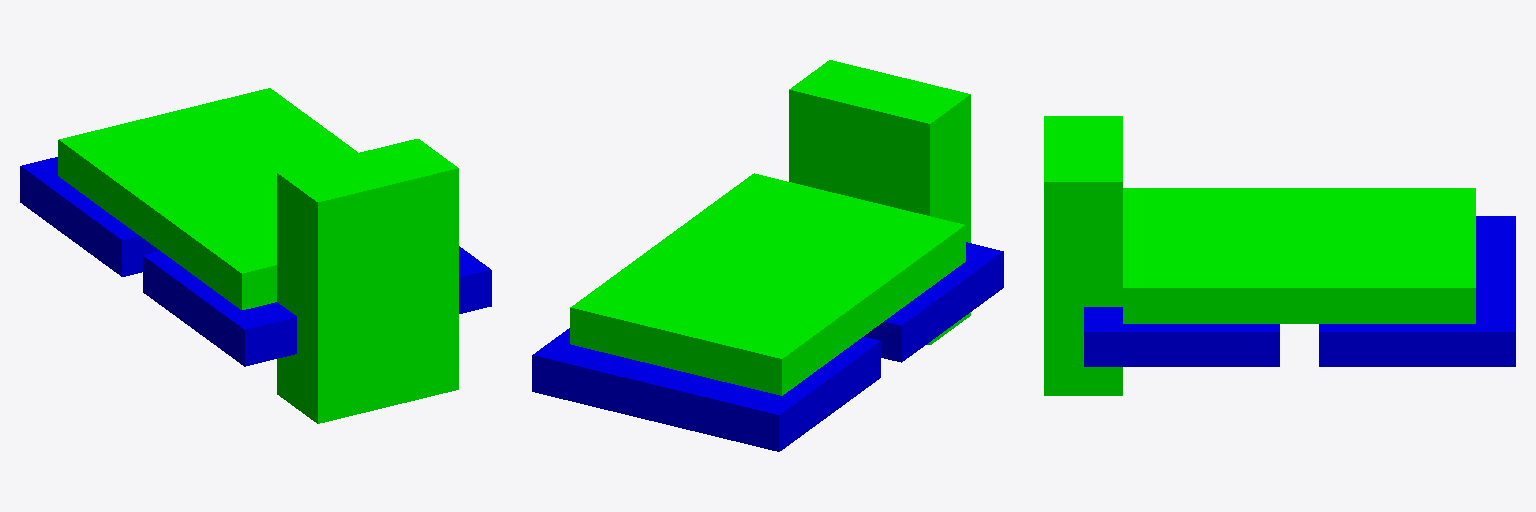
robot.urdf — robot:
<robot name = "robot">
    <link name="root">
        <inertial>
            <origin xyz="0.0 0.0 1.5" rpy="0 0 0"/>
            <mass value="1" />
            <inertia ixx="100" ixy="0" ixz="0" iyy="100" iyz="0" izz="100" />
        </inertial>
        <visual>
            <origin xyz="0.0 0.0 1.5" rpy="0 0 0"/>
            <geometry>
                <box size="0 0 0.0001" />
            </geometry>
            <material name="Green">
                <color rgba="0 1.0 0.0 1.0"/>
            </material>
        </visual>
        <collision>
            <origin xyz="0.0 0.0 1.5" rpy="0 0 0"/>
            <geometry>
                <box size="0 0 0.0001" />
            </geometry>
        </collision>
    </link>
    <joint name="root_000" type="revolute">
       <parent link="root"/>
       <child  link="000"/>
       <origin rpy="0 0 0" xyz="0.0 0.0 1.5" />
     <axis xyz="1 0 0"/>
       <limit effort="0.0" lower="-3.14159" upper="3.14159" velocity="0.0"/>
    </joint>
    <link name="000">
        <inertial>
            <origin xyz="0.0 0.0 -0.3" rpy="0 0 0"/>
            <mass value="1" />
            <inertia ixx="100" ixy="0" ixz="0" iyy="100" iyz="0" izz="100" />
        </inertial>
        <visual>
            <origin xyz="0.0 0.0 -0.3" rpy="0 0 0"/>
            <geometry>
                <box size="0.4 0.2 0.6" />
            </geometry>
            <material name="Green">
                <color rgba="0 1.0 0.0 1.0"/>
            </material>
        </visual>
        <collision>
            <origin xyz="0.0 0.0 -0.3" rpy="0 0 0"/>
            <geometry>
                <box size="0.4 0.2 0.6" />
            </geometry>
        </collision>
    </link>
    <joint name="000_000-100" type="revolute">
       <parent link="000"/>
       <child  link="000-100"/>
       <origin rpy="0 0 0" xyz="0.0 0.1 -0.3" />
     <axis xyz="0 1 0"/>
       <limit effort="0.0" lower="-3.14159" upper="3.14159" velocity="0.0"/>
    </joint>
    <link name="000-100">
        <inertial>
            <origin xyz="0.0 0.15 -0.0" rpy="0 0 0"/>
            <mass value="1" />
            <inertia ixx="100" ixy="0" ixz="0" iyy="100" iyz="0" izz="100" />
        </inertial>
        <visual>
            <origin xyz="0.0 0.15 -0.0" rpy="0 0 0"/>
            <geometry>
                <box size="0.6 0.3 0.1" />
            </geometry>
            <material name="Green">
                <color rgba="0 1.0 0.0 1.0"/>
            </material>
        </visual>
        <collision>
            <origin xyz="0.0 0.15 -0.0" rpy="0 0 0"/>
            <geometry>
                <box size="0.6 0.3 0.1" />
            </geometry>
        </collision>
    </link>
    <joint name="000-100_000-110" type="revolute">
       <parent link="000-100"/>
       <child  link="000-110"/>
       <origin rpy="0 0 0" xyz="0.0 0.3 -0.0" />
     <axis xyz="0 1 0"/>
       <limit effort="0.0" lower="-3.14159" upper="3.14159" velocity="0.0"/>
    </joint>
    <link name="000-110">
        <inertial>
            <origin xyz="0.0 0.15 -0.0" rpy="0 0 0"/>
            <mass value="1" />
            <inertia ixx="100" ixy="0" ixz="0" iyy="100" iyz="0" izz="100" />
        </inertial>
        <visual>
            <origin xyz="0.0 0.15 -0.0" rpy="0 0 0"/>
            <geometry>
                <box size="0.6 0.3 0.1" />
            </geometry>
            <material name="Green">
                <color rgba="0 1.0 0.0 1.0"/>
            </material>
        </visual>
        <collision>
            <origin xyz="0.0 0.15 -0.0" rpy="0 0 0"/>
            <geometry>
                <box size="0.6 0.3 0.1" />
            </geometry>
        </collision>
    </link>
    <joint name="000-110_000-120" type="revolute">
       <parent link="000-110"/>
       <child  link="000-120"/>
       <origin rpy="0 0 0" xyz="0.0 0.3 -0.0" />
     <axis xyz="0 1 0"/>
       <limit effort="0.0" lower="-3.14159" upper="3.14159" velocity="0.0"/>
    </joint>
    <link name="000-120">
        <inertial>
            <origin xyz="0.0 0.15 -0.0" rpy="0 0 0"/>
            <mass value="1" />
            <inertia ixx="100" ixy="0" ixz="0" iyy="100" iyz="0" izz="100" />
        </inertial>
        <visual>
            <origin xyz="0.0 0.15 -0.0" rpy="0 0 0"/>
            <geometry>
                <box size="0.6 0.3 0.1" />
            </geometry>
            <material name="Green">
                <color rgba="0 1.0 0.0 1.0"/>
            </material>
        </visual>
        <collision>
            <origin xyz="0.0 0.15 -0.0" rpy="0 0 0"/>
            <geometry>
                <box size="0.6 0.3 0.1" />
            </geometry>
        </collision>
    </link>
    <joint name="000-120_000-120-200" type="revolute">
       <parent link="000-120"/>
       <child  link="000-120-200"/>
       <origin rpy="0 0 0" xyz="0.0 0.15 -0.05" />
     <axis xyz="0 0 1"/>
       <limit effort="0.0" lower="-3.14159" upper="3.14159" velocity="0.0"/>
    </joint>
    <link name="000-120-200">
        <inertial>
            <origin xyz="0.0 0.0 -0.05" rpy="0 0 0"/>
            <mass value="1" />
            <inertia ixx="100" ixy="0" ixz="0" iyy="100" iyz="0" izz="100" />
        </inertial>
        <visual>
            <origin xyz="0.0 0.0 -0.05" rpy="0 0 0"/>
            <geometry>
                <box size="0.7 0.5 0.1" />
            </geometry>
            <material name="Blue">
                <color rgba="0 0.0 1.0 1.0"/>
            </material>
        </visual>
        <collision>
            <origin xyz="0.0 0.0 -0.05" rpy="0 0 0"/>
            <geometry>
                <box size="0.7 0.5 0.1" />
            </geometry>
        </collision>
    </link>
    <joint name="000-100_000-100-200" type="revolute">
       <parent link="000-100"/>
       <child  link="000-100-200"/>
       <origin rpy="0 0 0" xyz="0.0 0.15 -0.05" />
     <axis xyz="0 0 1"/>
       <limit effort="0.0" lower="-3.14159" upper="3.14159" velocity="0.0"/>
    </joint>
    <link name="000-100-200">
        <inertial>
            <origin xyz="0.0 0.0 -0.05" rpy="0 0 0"/>
            <mass value="1" />
            <inertia ixx="100" ixy="0" ixz="0" iyy="100" iyz="0" izz="100" />
        </inertial>
        <visual>
            <origin xyz="0.0 0.0 -0.05" rpy="0 0 0"/>
            <geometry>
                <box size="0.7 0.5 0.1" />
            </geometry>
            <material name="Blue">
                <color rgba="0 0.0 1.0 1.0"/>
            </material>
        </visual>
        <collision>
            <origin xyz="0.0 0.0 -0.05" rpy="0 0 0"/>
            <geometry>
                <box size="0.7 0.5 0.1" />
            </geometry>
        </collision>
    </link>
</robot>

--- Facts derived from the render (not from the file) ---
Views: 3 orthographic renders of the robot side by side, from view 1: azimuth 30°, elevation 25°; view 2: azimuth 150°, elevation 25°; view 3: azimuth 270°, elevation 25°.
Model robot with 7 links and 6 joints (6 revolute), rooted at root, posed all joints at 0.
Links seen in each view (by area): view 1: 000, [phone redacted] (×2), 000-120, 000-110, 000-100; view 2: [phone redacted] (×2), 000, 000-120, 000-100, 000-110; view 3: [phone redacted] (×2), 000, 000-100, 000-110, 000-120.
Boxes of the visible links, left/top/right/bottom form: 000: left=277, top=139, right=458, bottom=423; [phone redacted] (×2): left=20, top=157, right=491, bottom=366; 000-120: left=58, top=88, right=330, bottom=220; 000-110: left=120, top=133, right=357, bottom=265; 000-100: left=181, top=206, right=276, bottom=309; [phone redacted] (×2): left=532, top=242, right=1003, bottom=451; 000: left=789, top=60, right=970, bottom=344; 000-120: left=570, top=263, right=842, bottom=395; 000-100: left=693, top=173, right=965, bottom=306; 000-110: left=632, top=218, right=903, bottom=350; [phone redacted] (×2): left=1084, top=216, right=1515, bottom=366; 000: left=1044, top=116, right=1122, bottom=395; 000-100: left=1123, top=188, right=1240, bottom=323; 000-110: left=1241, top=188, right=1358, bottom=323; 000-120: left=1359, top=188, right=1475, bottom=323.
Size in the robot's own frame: 0.7 by 1.2 by 0.6 metres.
Geometry: primitives only (box / cylinder / sphere), no mesh files.
